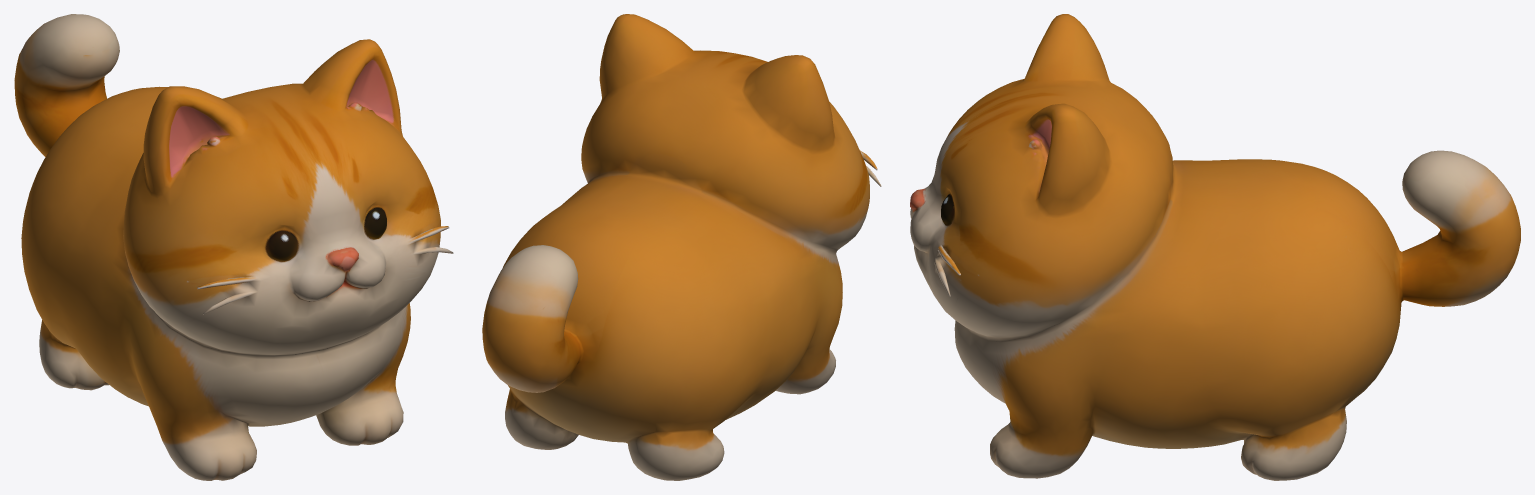
The model's file is A-cat.glb.
The picture shows the model from 3 angles, left to right: view 1: azimuth 30°, elevation 25°; view 2: azimuth 150°, elevation 25°; view 3: azimuth 270°, elevation 25°; orthographic projection. The views are drawn at different scales.
Visible parts, largest first — view 1: material; view 2: material; view 3: material.
Part boxes in pixels (left/top/right/bottom): material: left=14, top=14, right=453, bottom=480; material: left=482, top=14, right=881, bottom=480; material: left=910, top=14, right=1520, bottom=480.
Size of the model in its own units: 1.01 by 1.28 by 1.9.
1 material, 1 textured.
